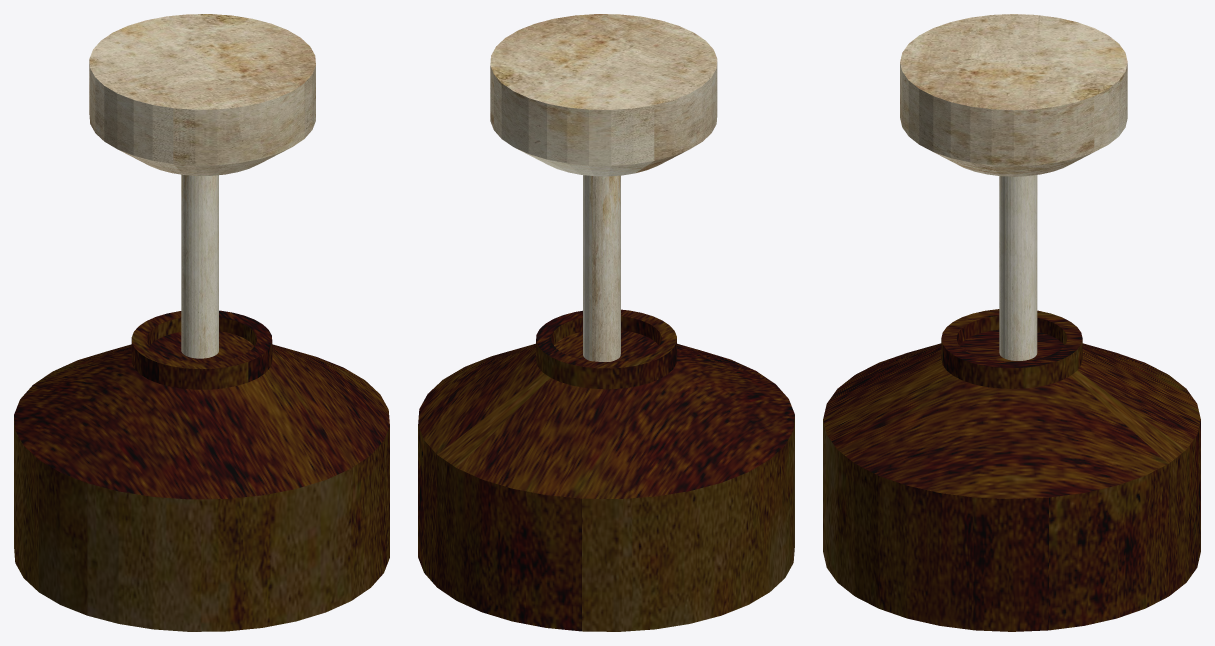
File: lamp.glb
The picture shows the model from 3 angles, left to right: view 1: azimuth 30°, elevation 25°; view 2: azimuth 150°, elevation 25°; view 3: azimuth 270°, elevation 25°; orthographic projection.
Parts seen in each view (by area): view 1: lamp, Cylinder.002, Cylinder.001; view 2: lamp, Cylinder.002, Cylinder.001; view 3: lamp, Cylinder.002, Cylinder.001.
Boxes of the visible parts, bbox=[...] form: lamp: bbox=[14, 310, 389, 631]; Cylinder.002: bbox=[89, 14, 315, 175]; Cylinder.001: bbox=[181, 174, 218, 358]; lamp: bbox=[418, 309, 794, 631]; Cylinder.002: bbox=[490, 14, 717, 176]; Cylinder.001: bbox=[583, 175, 620, 361]; lamp: bbox=[823, 309, 1200, 631]; Cylinder.002: bbox=[900, 14, 1127, 176]; Cylinder.001: bbox=[999, 175, 1037, 360].
Size of the model in its own units: 1.03 by 1.48 by 1.03.
Materials: 4 (4 with a texture image).
